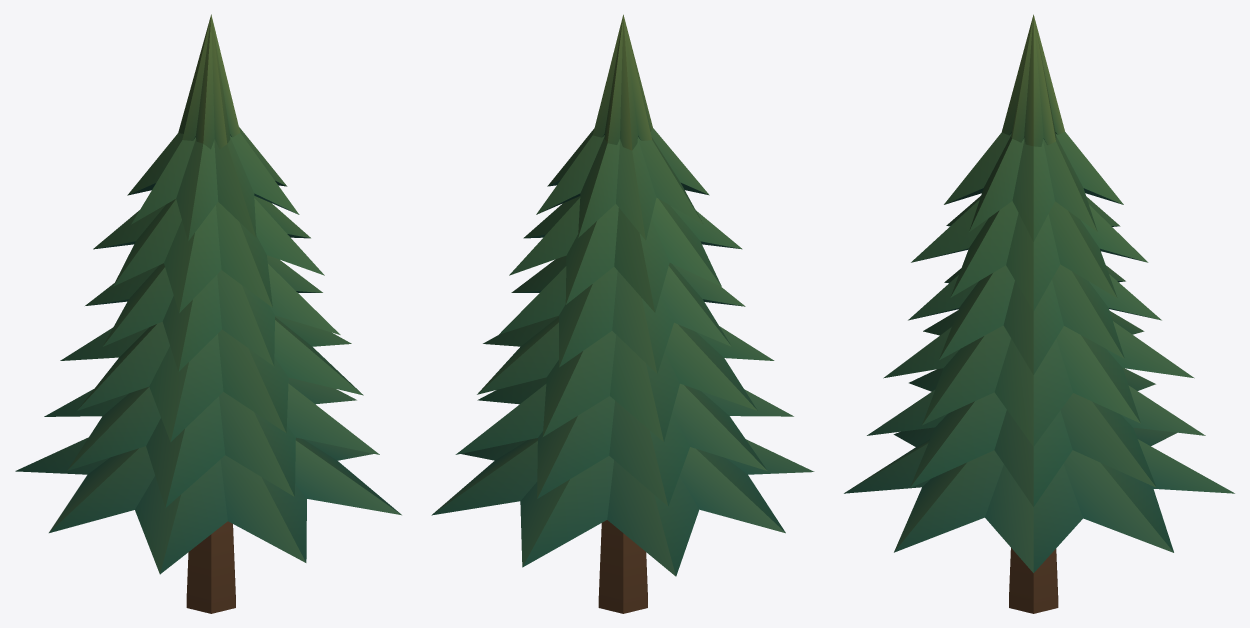
3 views of the same model, side by side, from view 1: azimuth 30°, elevation 25°; view 2: azimuth 150°, elevation 25°; view 3: azimuth 270°, elevation 25° (orthographic).
Parts seen in each view (by area): view 1: prop_pine_layered; view 2: prop_pine_layered; view 3: prop_pine_layered.
Boxes of the visible parts, x1,y1,x2,y2 form: prop_pine_layered: (15,14,401,613); prop_pine_layered: (431,14,814,613); prop_pine_layered: (844,14,1234,613).
Size of the model in its own units: 4.65 by 8 by 4.84.
